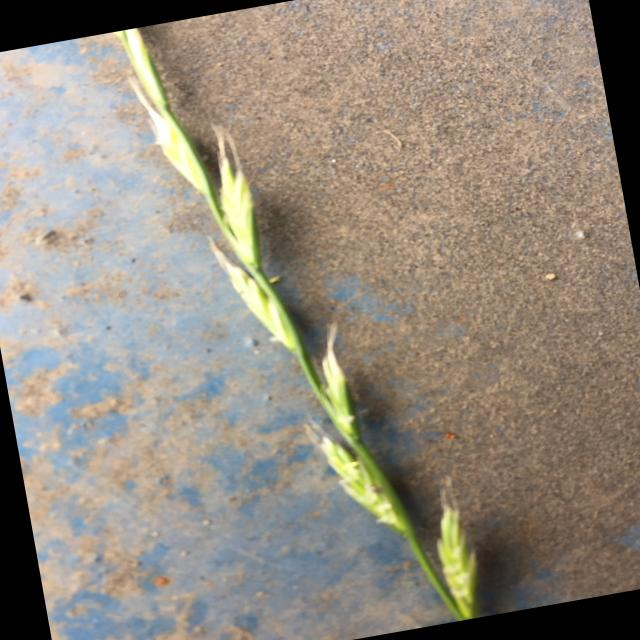Lolium: (111, 0, 488, 640), (420, 481, 489, 621)
